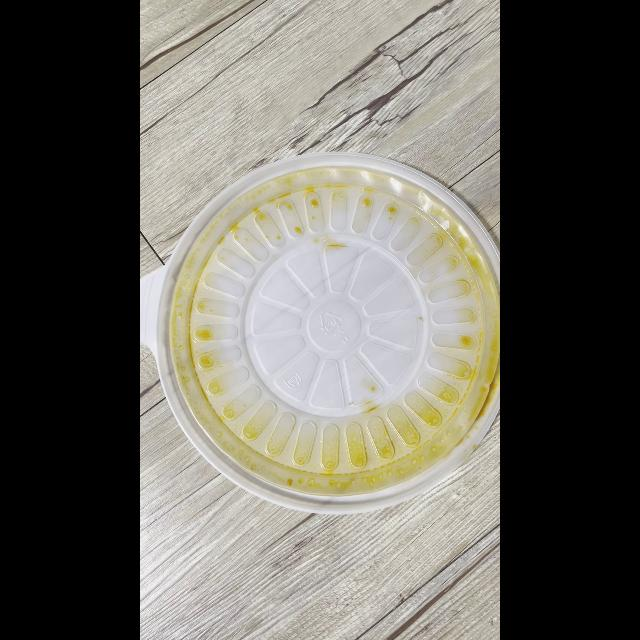dirty: (161, 153, 497, 503)
